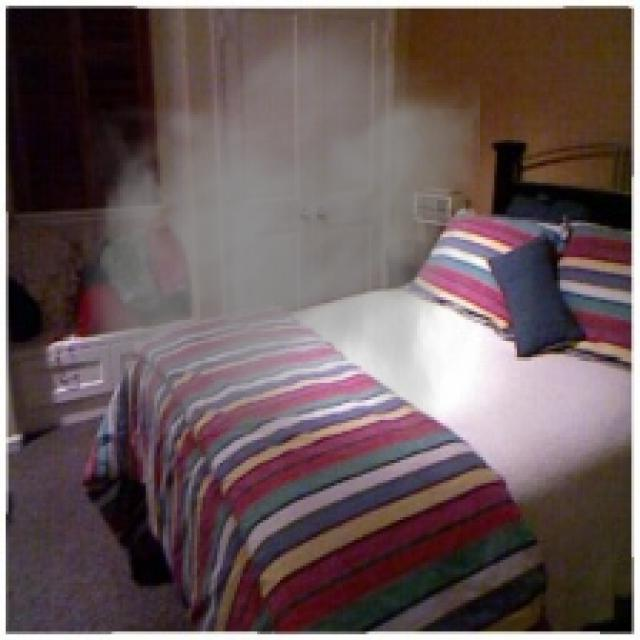smoke: (77, 14, 480, 434)
